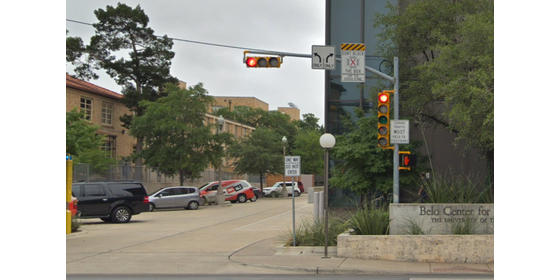dont block the box sign: (340, 40, 366, 86)
left turn only sign: (310, 44, 323, 71)
right turn only sign: (324, 45, 337, 73)
turning vehicle yield to ped sign: (389, 116, 411, 147)
